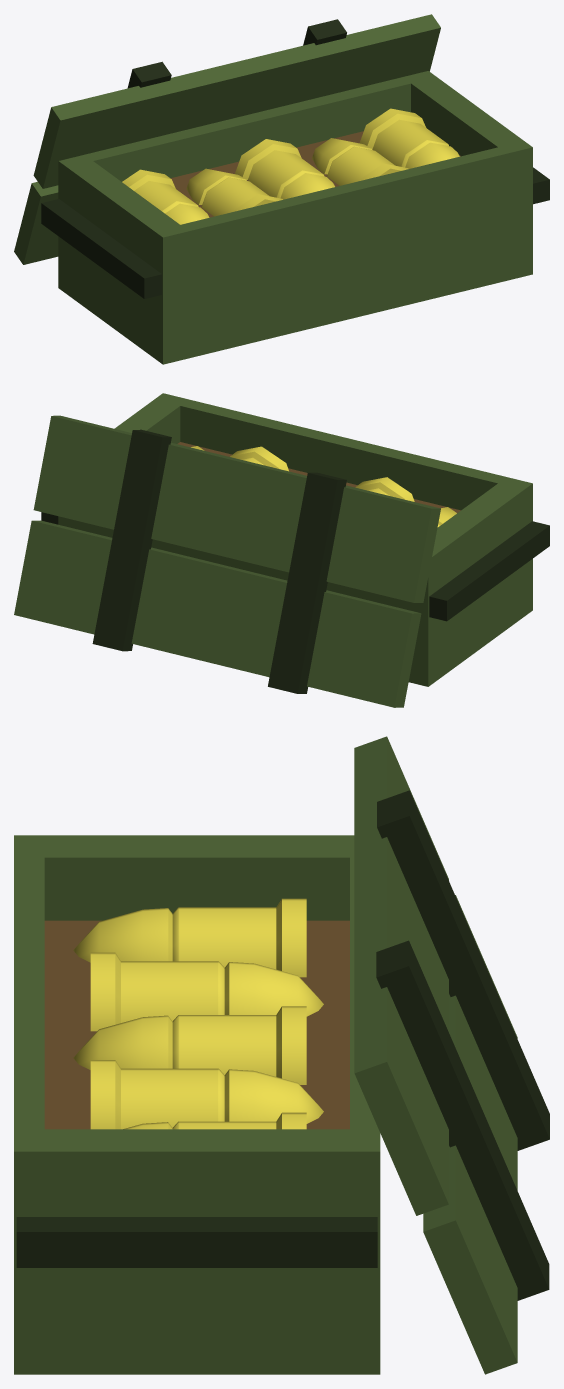
File: AmmoBox.fbx
3 renders of one model, top to bottom at view 1: azimuth 30°, elevation 25°; view 2: azimuth 150°, elevation 25°; view 3: azimuth 270°, elevation 25°, orthographic. The views are drawn at different scales.
Parts seen in each view (by area): view 1: Cube, Cube.003, Cube.007, Shell.003, Shell, Shell.004, Shell.001, Cube.006, Shell.002, Cube.002, Cube.005, Cube.004 (+1 smaller); view 2: Cube.006, Cube.003, Cube, Cube.005, Cube.004, Cube.007, Shell.001, Shell.004, Cube.002; view 3: Cube, Cube.003, Cube.001, Cube.002, Cube.005, Cube.006, Cube.004, Shell.002, Shell.001, Shell.003, Shell.004, Shell.
Boxes of the visible parts, <box> form: Cube: <box>58,71,532,364</box>; Cube.003: <box>33,14,440,188</box>; Cube.007: <box>41,199,161,298</box>; Shell.003: <box>235,139,334,199</box>; Shell: <box>359,108,459,168</box>; Shell.004: <box>312,138,408,185</box>; Shell.001: <box>186,168,282,216</box>; Cube.006: <box>14,181,58,264</box>; Shell.002: <box>122,169,209,224</box>; Cube.002: <box>171,131,460,217</box>; Cube.005: <box>127,61,171,88</box>; Cube.004: <box>303,19,346,45</box>; Cube.006: <box>14,520,421,707</box>; Cube.003: <box>33,415,440,602</box>; Cube: <box>58,393,532,686</box>; Cube.005: <box>268,472,346,693</box>; Cube.004: <box>92,429,171,651</box>; Cube.007: <box>429,521,549,621</box>; Shell.001: <box>355,477,414,501</box>; Shell.004: <box>230,446,288,471</box>; Cube.002: <box>177,442,460,513</box>; Cube: <box>14,835,380,1374</box>; Cube.003: <box>354,736,448,1215</box>; Cube.001: <box>16,1217,377,1267</box>; Cube.002: <box>44,920,349,1129</box>; Cube.005: <box>377,790,549,1150</box>; Cube.006: <box>423,895,517,1374</box>; Cube.004: <box>376,940,549,1300</box>; Shell.002: <box>73,898,306,977</box>; Shell.001: <box>90,952,323,1031</box>; Shell.003: <box>73,1006,306,1084</box>; Shell.004: <box>90,1060,323,1129</box>; Shell: <box>123,1112,306,1129</box>.
Size of the model in its own units: 175 by 79.43 by 114.
